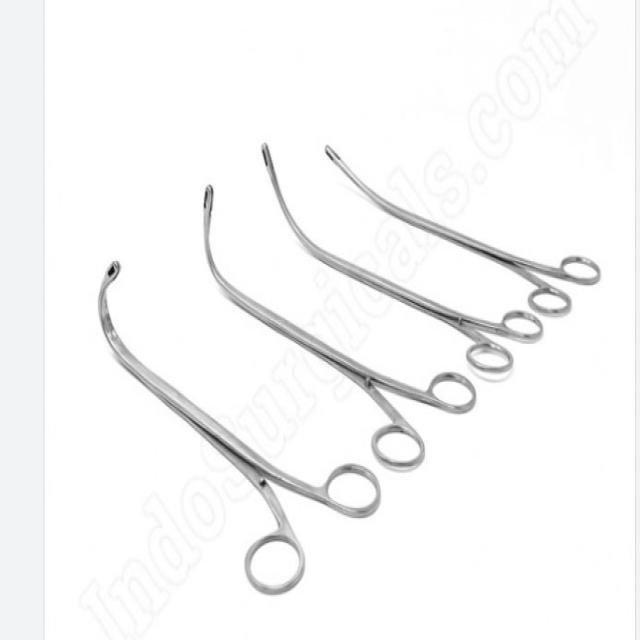Randall: (93, 255, 384, 610), (253, 131, 544, 375)
